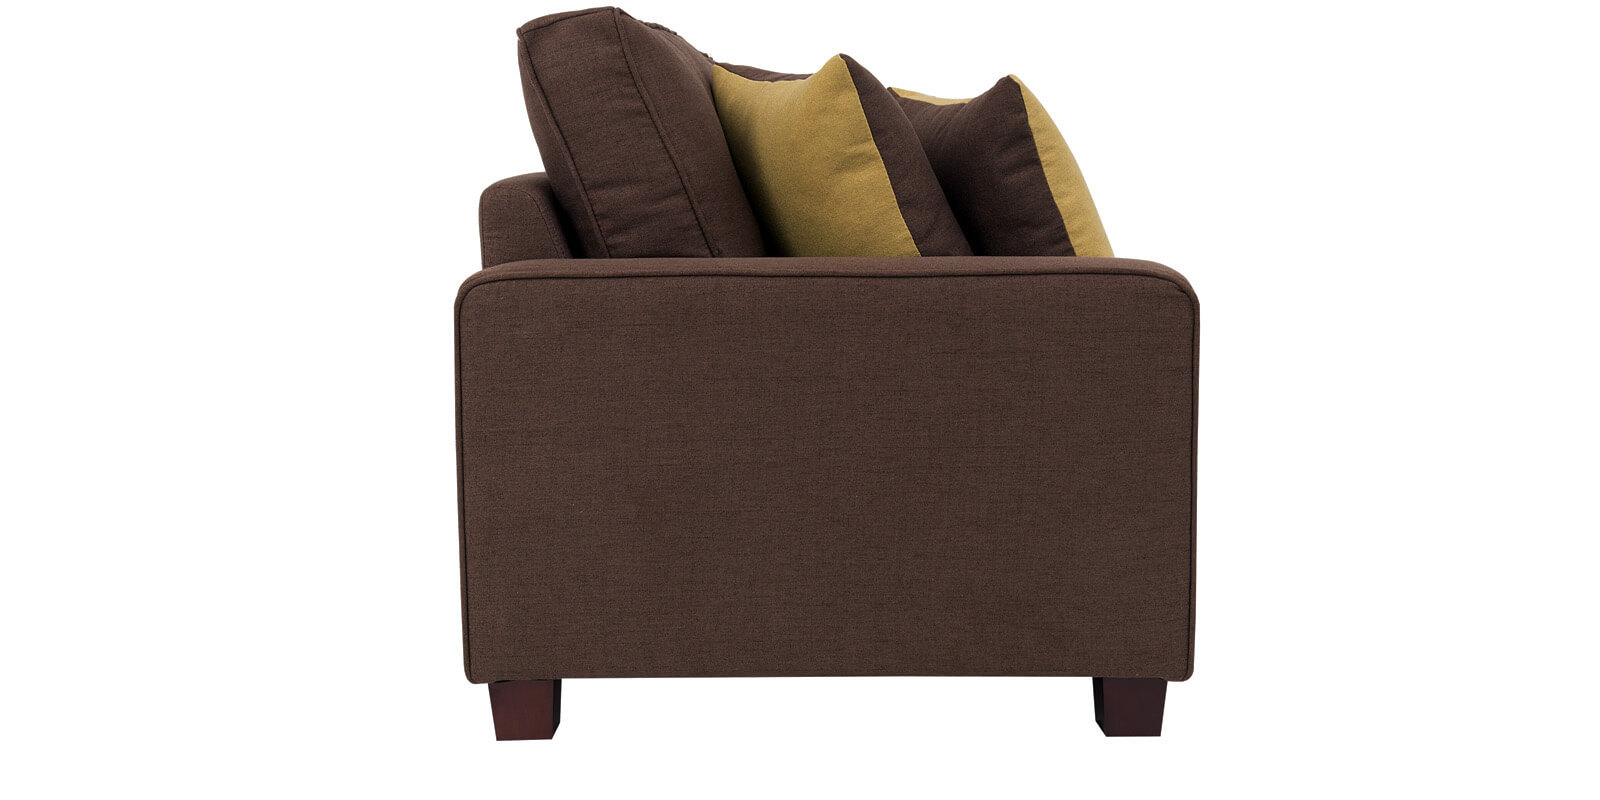Castilla Three Seater Sofa in Brown Colour by CasaCraft: (455, 13, 1199, 763)
